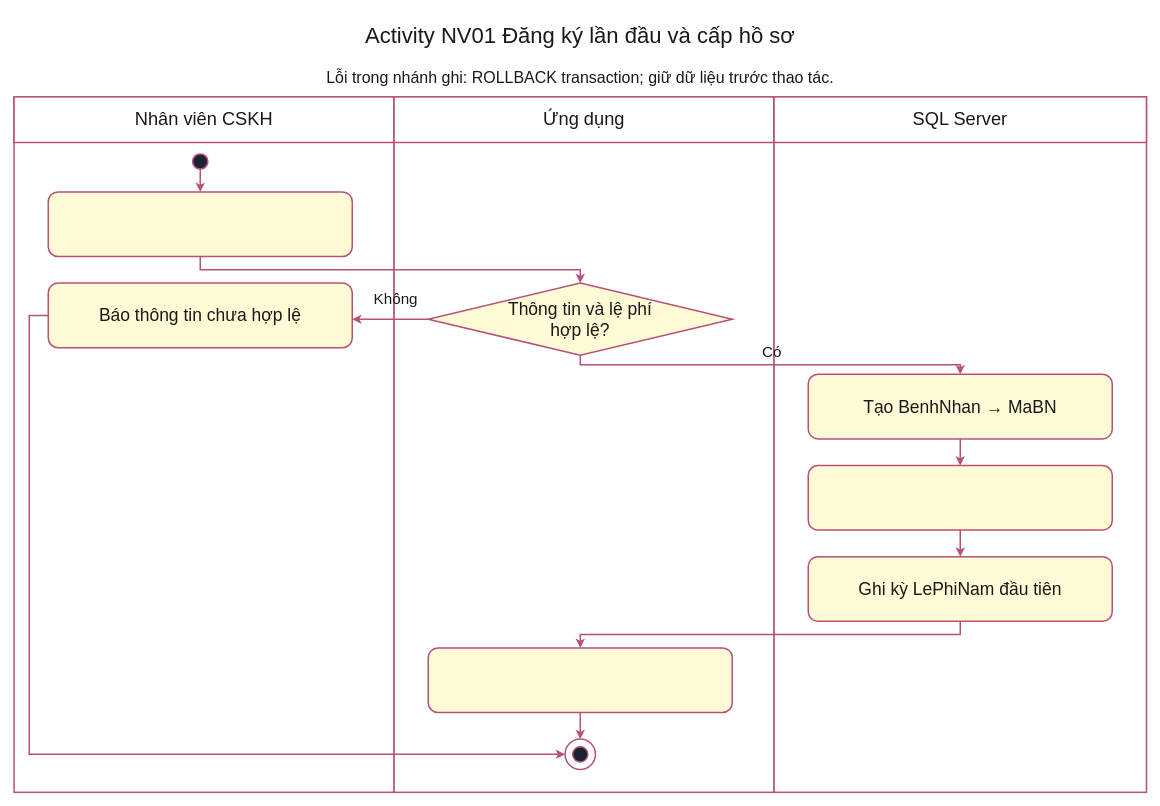
The diagram is 1160 pixels wide and 806 high, and some of its shapes have lost their labels. Here are the shapes that lost their labels. From the top down, the centre of each, then its label:
(200,224): Nhập thông tin bệnh nhân ảnh và lệ phí
(960,497): Cấp HoSoBenhAn → MaHS
(580,680): COMMIT; trả mã hồ sơ mới
